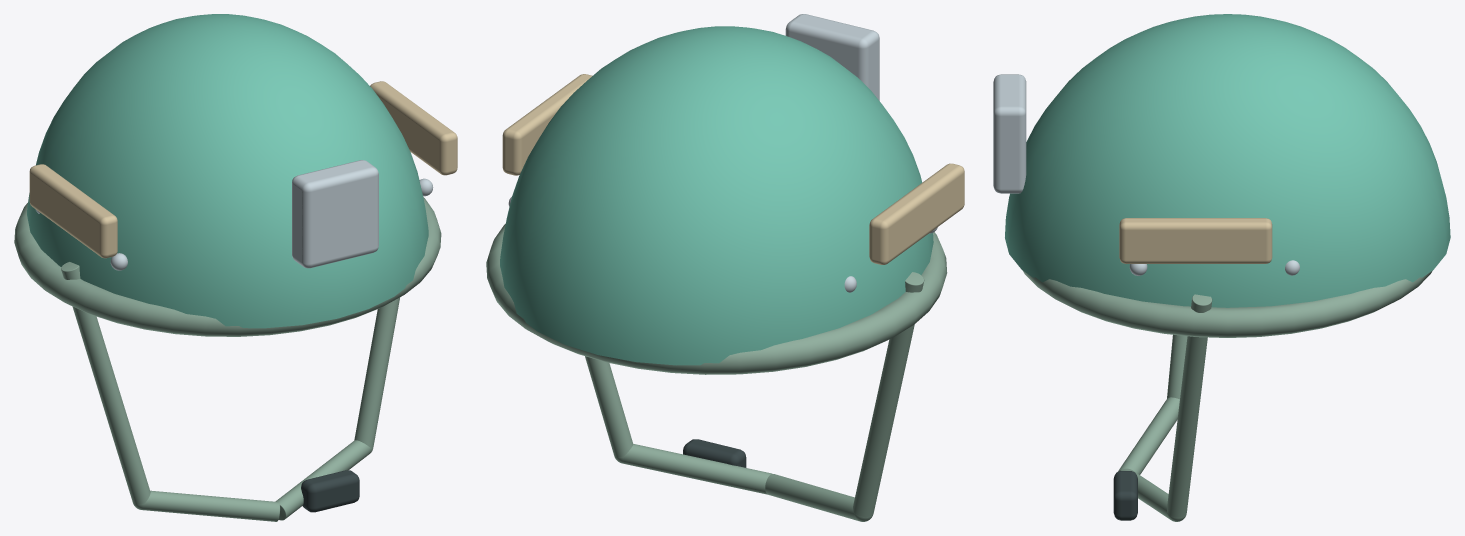
The model's file is field_helmet.glb.
The picture shows the model from 3 angles, left to right: view 1: azimuth 30°, elevation 25°; view 2: azimuth 150°, elevation 25°; view 3: azimuth 270°, elevation 25°; orthographic projection. The views are drawn at different scales.
Visible parts, largest first — view 1: Helmet_Shell, Helmet_Rim, Front_Mount, Chin_Strap_Tube0, Side_Rail, Side_Rail_2, Chin_Strap_Tube0_2, Chin_Strap_Tube1, Buckle, Chin_Strap_Tube1_2; view 2: Helmet_Shell, Helmet_Rim, Side_Rail, Chin_Strap_Tube0, Front_Mount, Chin_Strap_Tube1_2, Side_Rail_2, Chin_Strap_Tube0_2, Chin_Strap_Tube1, Buckle; view 3: Helmet_Shell, Helmet_Rim, Side_Rail_2, Chin_Strap_Tube0_2, Front_Mount, Chin_Strap_Tube1, Buckle, Chin_Strap_Tube0, Chin_Strap_Tube1_2.
Part boxes in pixels (x1,y1,x2,y2): Helmet_Shell: (27,14,428,328); Helmet_Rim: (14,197,441,336); Front_Mount: (292,160,378,268); Chin_Strap_Tube0: (61,262,150,504); Side_Rail: (29,164,117,258); Side_Rail_2: (370,81,457,175); Chin_Strap_Tube0_2: (354,297,399,447); Chin_Strap_Tube1: (143,490,280,521); Buckle: (301,470,359,512); Chin_Strap_Tube1_2: (275,440,370,520); Helmet_Shell: (500,26,933,365); Helmet_Rim: (486,224,947,374); Side_Rail: (869,163,964,264); Chin_Strap_Tube0: (853,272,924,517); Front_Mount: (785,14,879,100); Chin_Strap_Tube1_2: (623,444,772,494); Side_Rail_2: (502,74,592,175); Chin_Strap_Tube0_2: (585,356,633,456); Chin_Strap_Tube1: (765,474,857,520); Buckle: (683,439,746,467); Helmet_Shell: (1005,14,1450,307); Helmet_Rim: (1023,270,1432,337); Side_Rail_2: (1119,218,1272,263); Chin_Strap_Tube0_2: (1167,294,1212,517); Front_Mount: (993,74,1026,193); Chin_Strap_Tube1: (1118,397,1179,474); Buckle: (1113,471,1137,520); Chin_Strap_Tube0: (1167,334,1187,399); Chin_Strap_Tube1_2: (1121,468,1168,518).
Size of the model in its own units: 0.34 by 0.3958 by 0.359.
